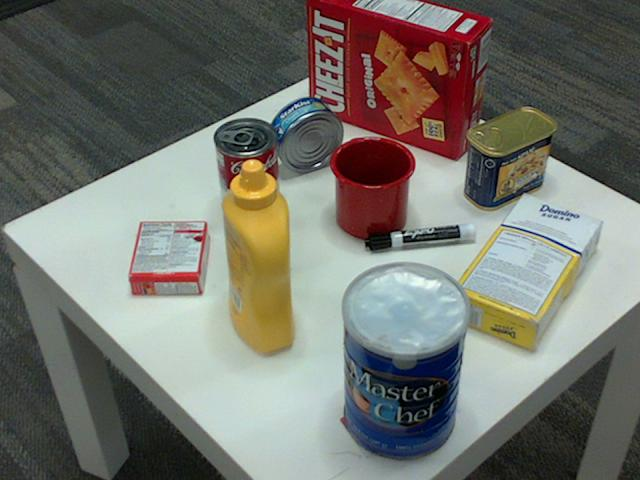cracker_box: (308, 0, 491, 159)
gelatin_box: (125, 219, 206, 294)
large_marker: (365, 227, 477, 250)
master_chef_can: (342, 264, 471, 463)
mug: (327, 135, 414, 239)
mustard_bottle: (219, 160, 293, 353)
potted_meat_can: (464, 108, 554, 211)
sugar_box: (446, 193, 601, 352)
tomato_soup_can: (213, 118, 279, 227)
tuna_fish_can: (266, 96, 342, 172)
